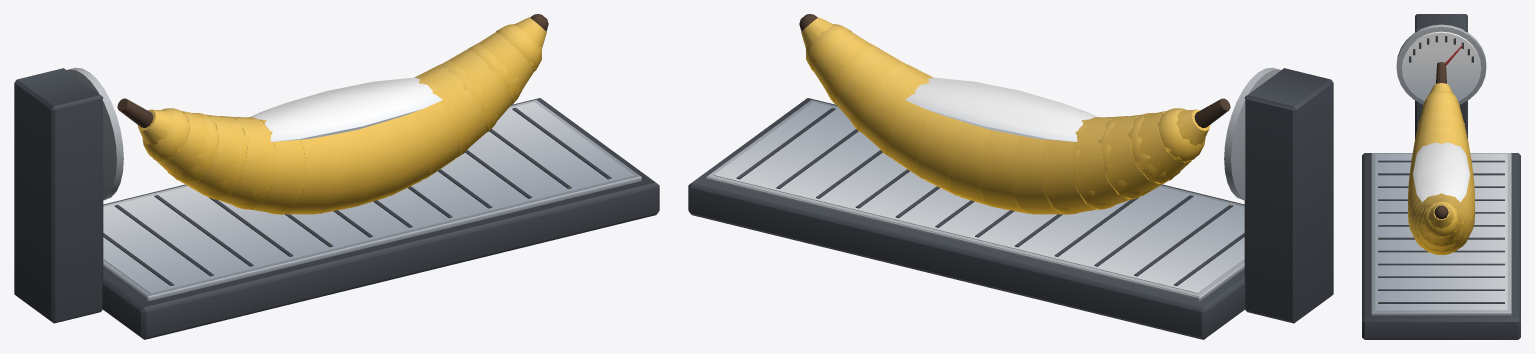
Rendered from ck_meme_banana_scale.fbx.
The picture shows the model from 3 angles, left to right: view 1: azimuth 30°, elevation 25°; view 2: azimuth 150°, elevation 25°; view 3: azimuth 270°, elevation 25°; orthographic projection. The views are drawn at different scales.
Parts seen in each view (by area): view 1: ck_meme_banana_scale; view 2: ck_meme_banana_scale; view 3: ck_meme_banana_scale.
Boxes of the visible parts, left/top/right/bottom form: ck_meme_banana_scale: left=14, top=14, right=659, bottom=339; ck_meme_banana_scale: left=688, top=14, right=1333, bottom=339; ck_meme_banana_scale: left=1362, top=14, right=1520, bottom=339.
Size of the model in its own units: 3290 by 1240 by 1200.
